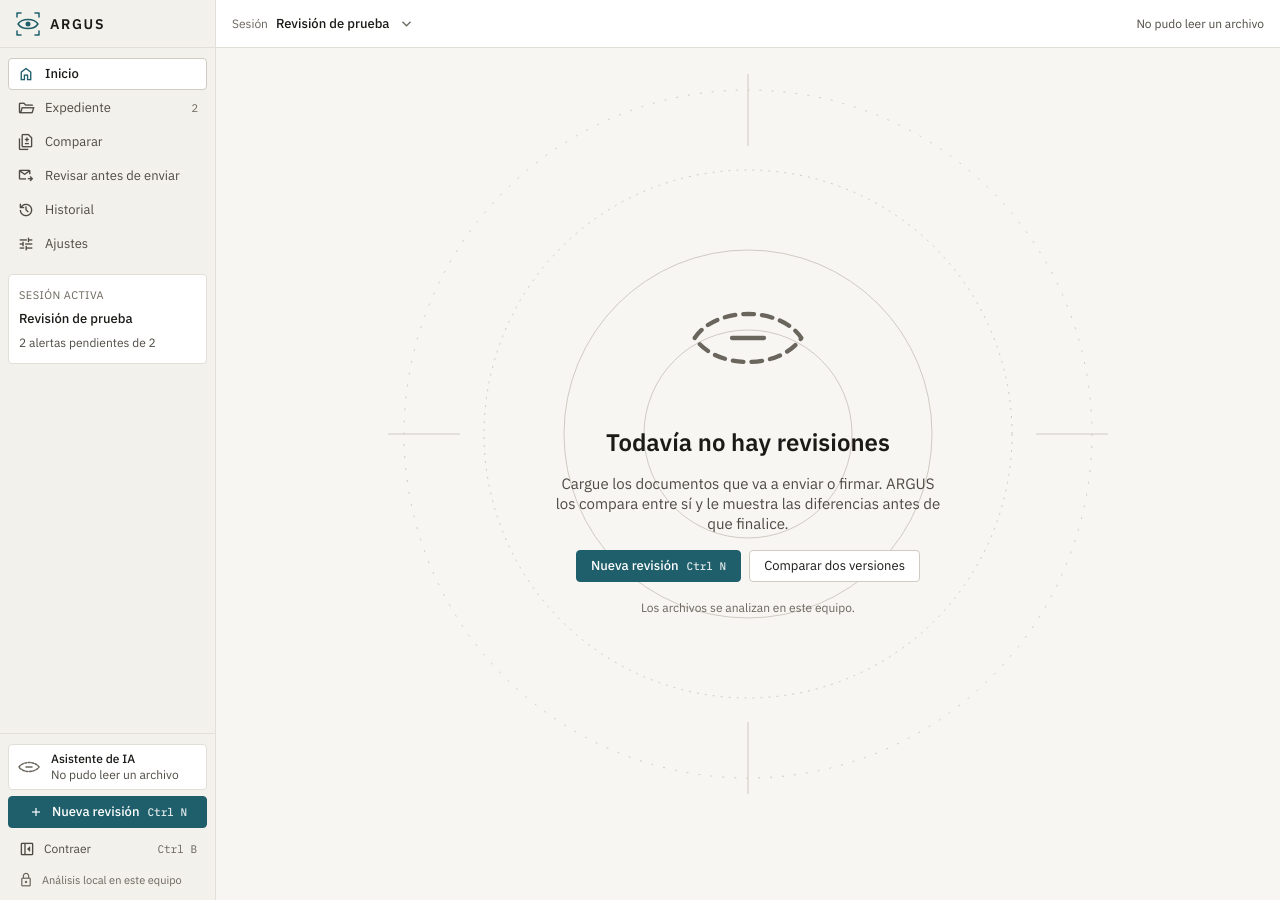
Test: Explicar esta alerta › una alerta de dos valores cita el archivo y la página de cada uno
The width and height of the screenshot is (1280, 900).
Click the button "Expediente 2": [108, 108] box 8,92 -> 207,124
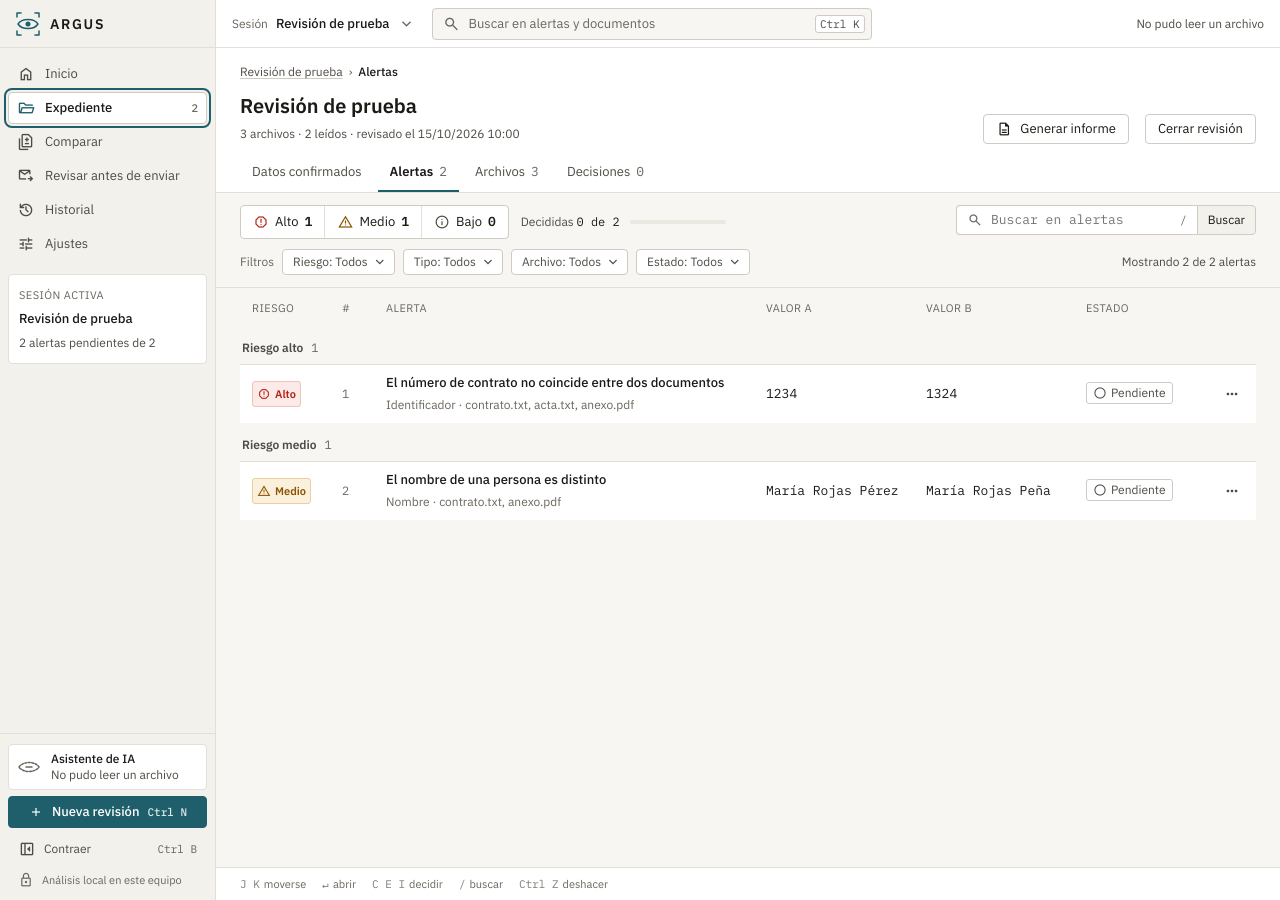
Click the row that starts with "Alto": [748, 394] box 240,364 -> 1256,423
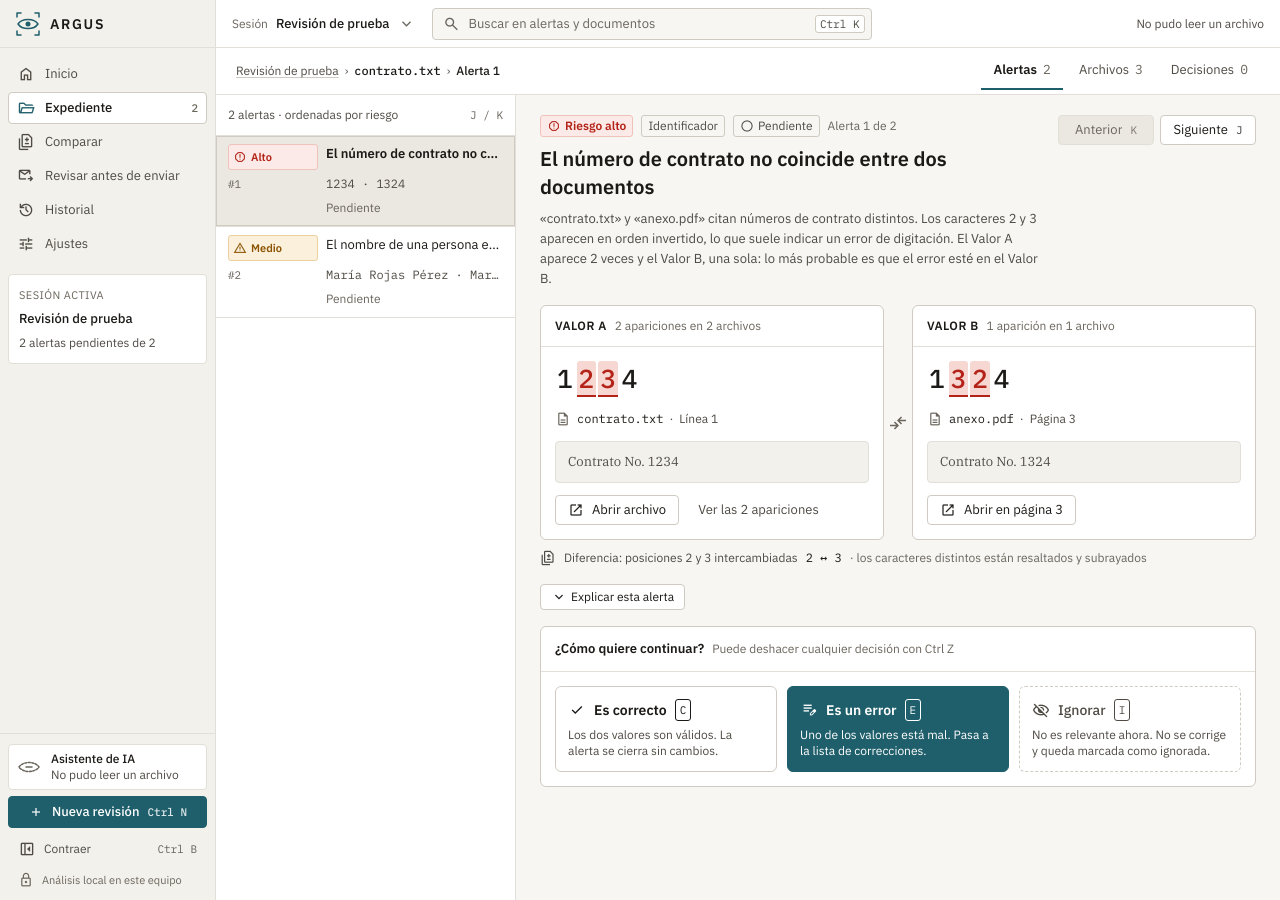
Click the button "Explicar esta alerta": [613, 597] box 540,584 -> 685,610
(page scrolled)
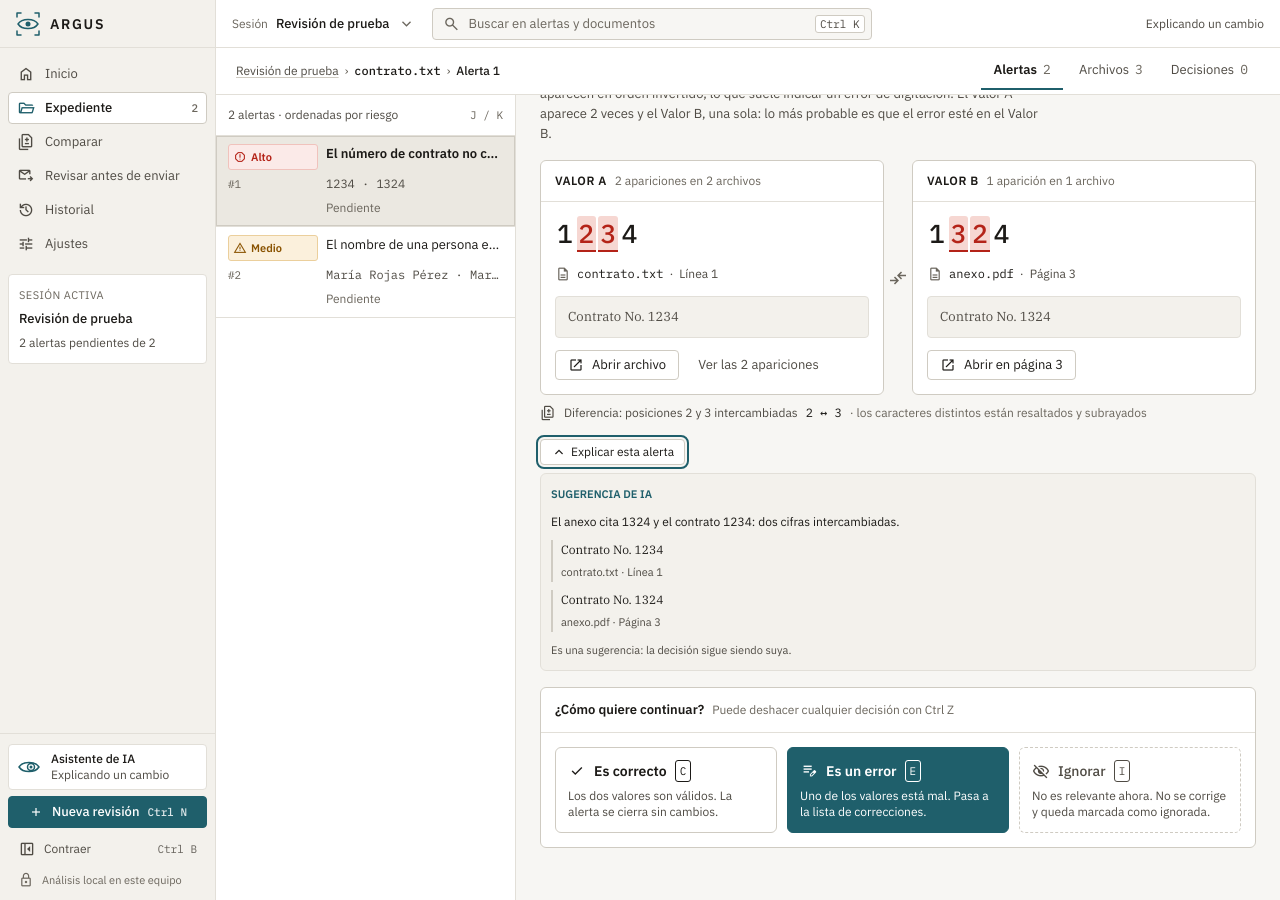
Now the text "Sugerencia de IA" is shown, box 551,487 -> 652,501
Now the text "El anexo cita 1324 y el contrato 1234: dos cifras intercambiadas." is shown, box 551,514 -> 900,529
Now the text "contrato.txt · Línea 1" is shown, box 561,565 -> 663,579
